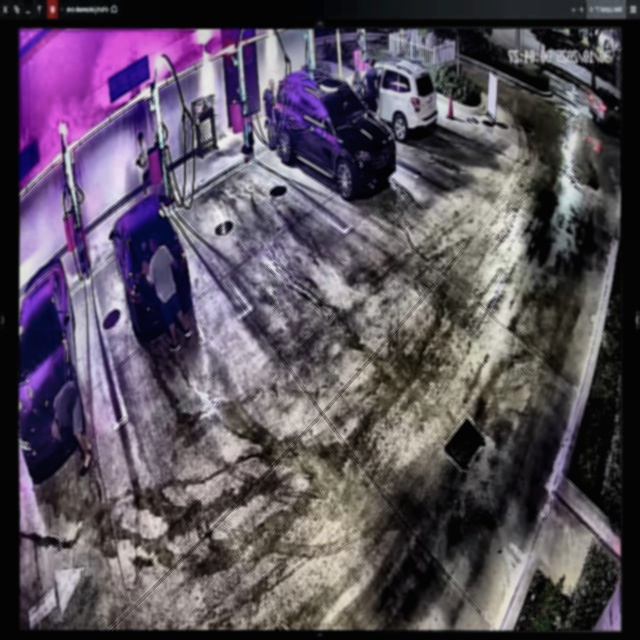Car: (273, 67, 395, 202), (108, 197, 189, 332), (344, 58, 437, 145)
